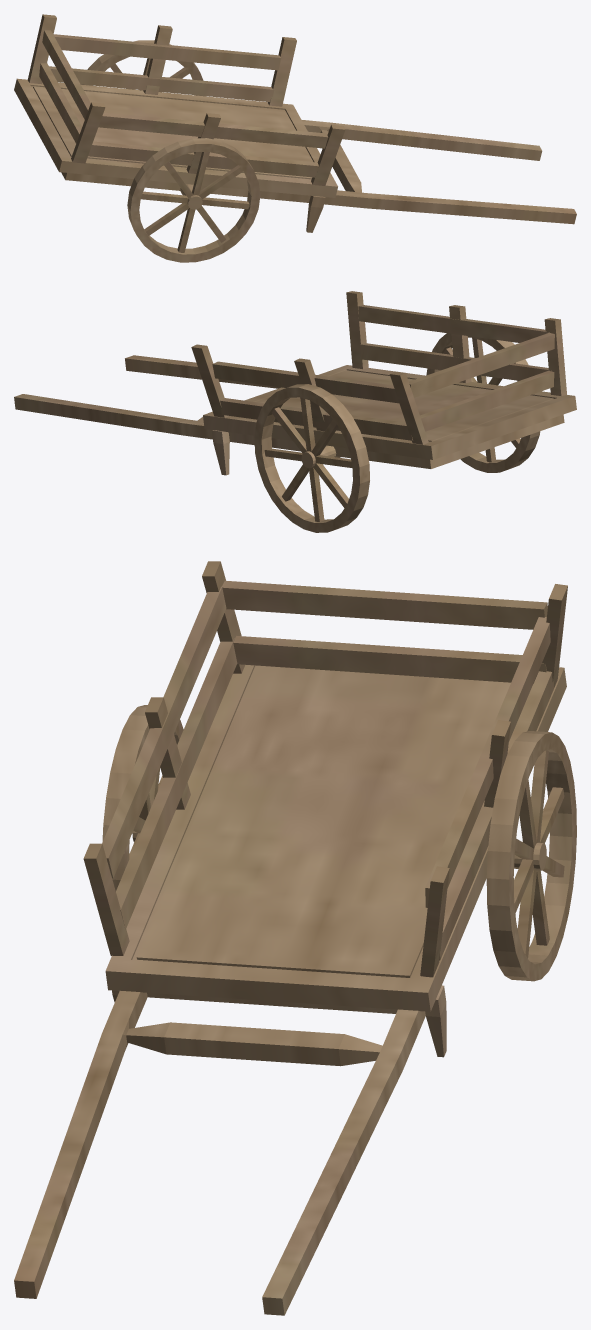
The model's file is wagon.glb.
3 views of the same model, one above another, from view 1: azimuth 30°, elevation 25°; view 2: azimuth 150°, elevation 25°; view 3: azimuth 270°, elevation 25° (orthographic). The views are drawn at different scales.
Parts seen in each view (by area): view 1: prefab; view 2: prefab; view 3: prefab.
Part boxes in pixels (left/top/right/bottom): prefab: left=14, top=14, right=576, bottom=262; prefab: left=14, top=291, right=576, bottom=532; prefab: left=14, top=561, right=576, bottom=1315.
Size of the model in its own units: 4.33 by 1.65 by 2.31.
1 material, 1 textured.
